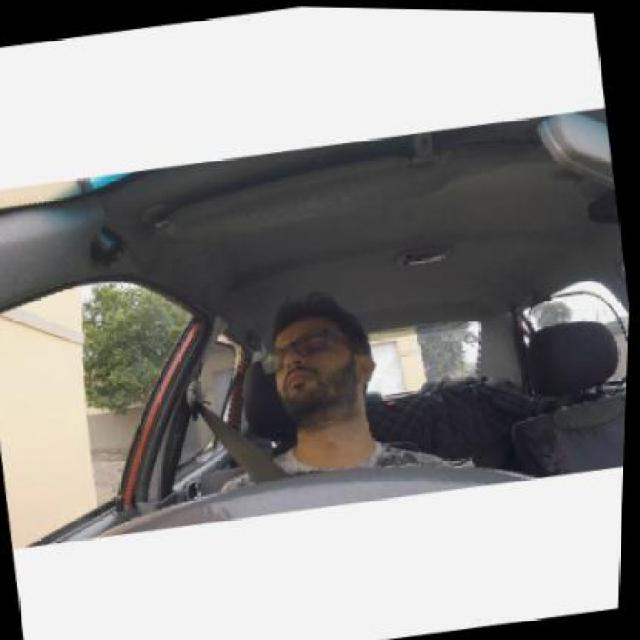drowsy: (251, 287, 388, 418)
